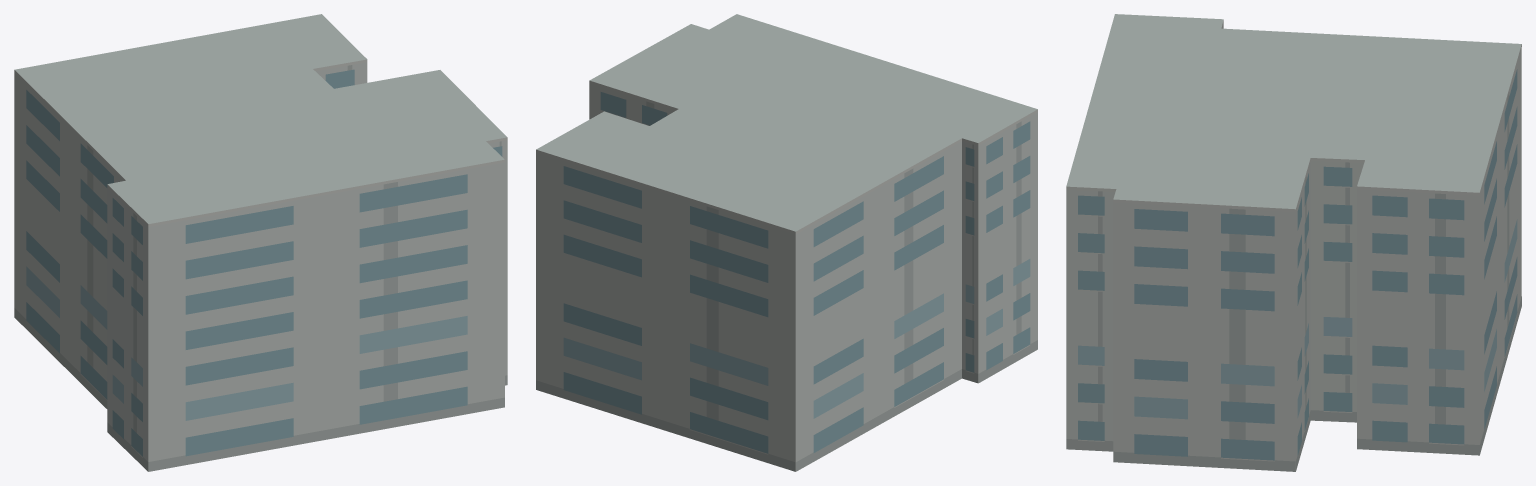
Rendered from survey-upis-32947857.glb.
3 renders of one model, left to right at view 1: azimuth 30°, elevation 25°; view 2: azimuth 150°, elevation 25°; view 3: azimuth 270°, elevation 25°, orthographic. The views are drawn at different scales.
Visible parts, largest first — view 1: survey-upis-32947857.tmp; view 2: survey-upis-32947857.tmp; view 3: survey-upis-32947857.tmp.
Part boxes in pixels (x1=…): survey-upis-32947857.tmp: x1=14, y1=14, x2=507, y2=471; survey-upis-32947857.tmp: x1=536, y1=14, x2=1037, y2=471; survey-upis-32947857.tmp: x1=1066, y1=14, x2=1521, y2=471.
Bounding box in the file's own units: 33.76 × 21.18 × 33.29.
